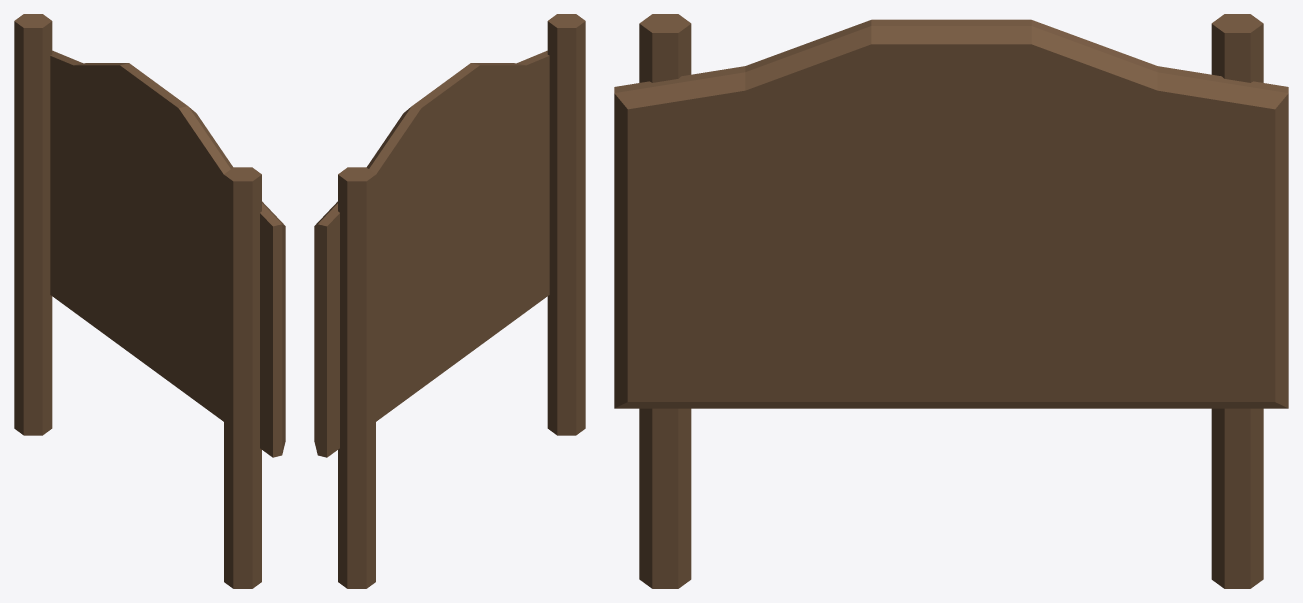
File: tablica ogloszen.fbx
3 renders of one model, left to right at view 1: azimuth 30°, elevation 25°; view 2: azimuth 150°, elevation 25°; view 3: azimuth 270°, elevation 25°, orthographic. The views are drawn at different scales.
Visible parts, largest first — view 1: Cylinder; view 2: Cylinder; view 3: Cylinder.
Part boxes in pixels (bbox=[...]): Cylinder: bbox=[14, 14, 285, 588]; Cylinder: bbox=[314, 14, 585, 588]; Cylinder: bbox=[614, 14, 1288, 588].
Bounding box in the file's own units: 87.92 × 805 × 868.
